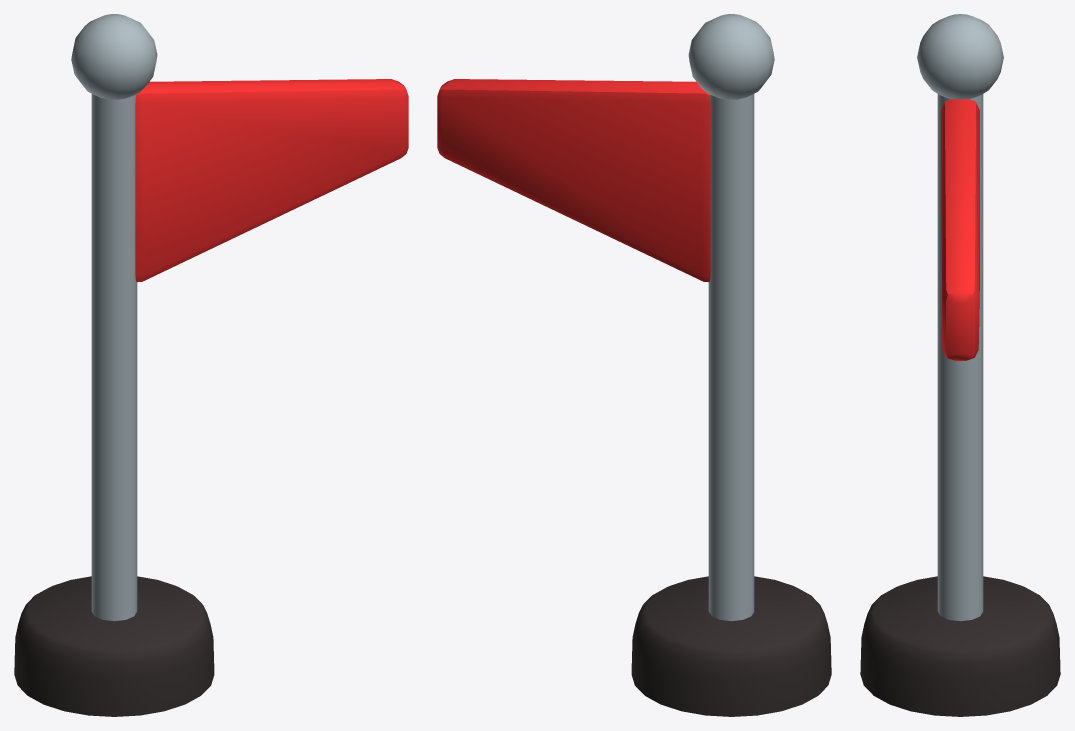
Rendered from flag.gltf.
3 renders of one model, left to right at view 1: azimuth 30°, elevation 25°; view 2: azimuth 150°, elevation 25°; view 3: azimuth 270°, elevation 25°, orthographic.
Visible parts, largest first — view 1: Cube1351, Cube1351_2, Cube1351_1; view 2: Cube1351, Cube1351_2, Cube1351_1; view 3: Cube1351_1, Cube1351_2, Cube1351.
Boxes of the visible parts, left/top/right/bottom form: Cube1351: left=135, top=79, right=408, bottom=282; Cube1351_2: left=71, top=14, right=157, bottom=621; Cube1351_1: left=14, top=576, right=214, bottom=716; Cube1351: left=437, top=79, right=710, bottom=282; Cube1351_2: left=688, top=14, right=774, bottom=621; Cube1351_1: left=631, top=576, right=831, bottom=716; Cube1351_1: left=860, top=576, right=1060, bottom=716; Cube1351_2: left=917, top=14, right=1003, bottom=621; Cube1351: left=941, top=99, right=979, bottom=360.
Bounding box in the file's own units: 1.2 × 2 × 0.5524.
